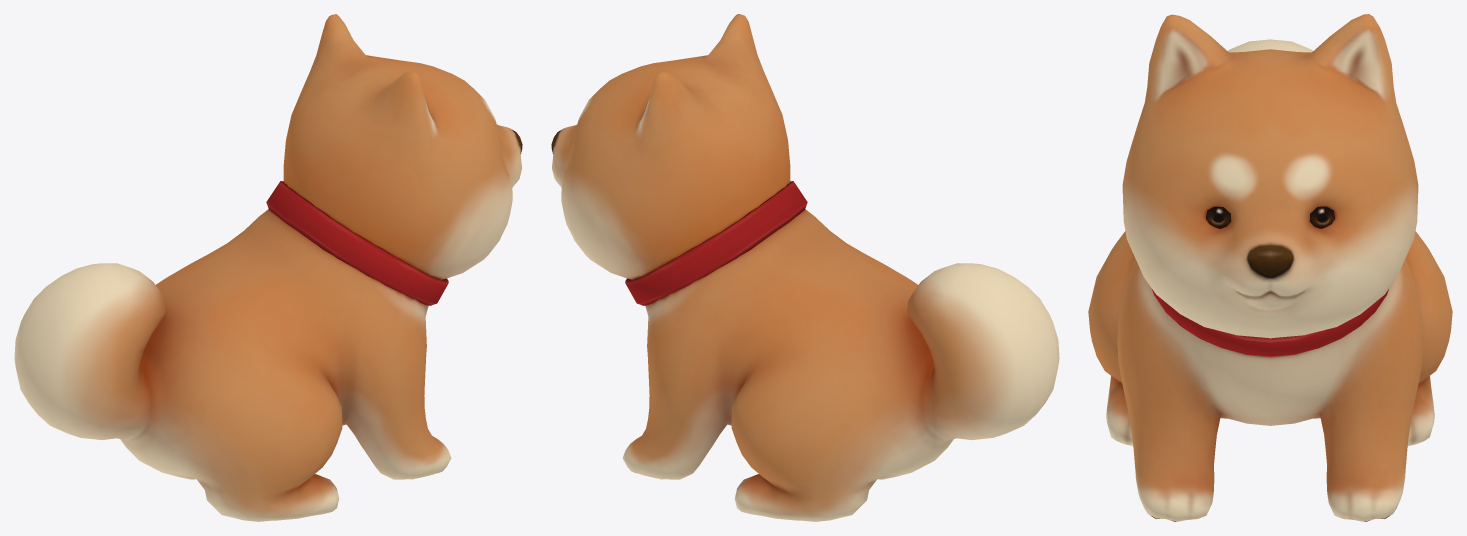
Rendered from shiba.glb.
3 views of the same model, side by side, from view 1: azimuth 30°, elevation 25°; view 2: azimuth 150°, elevation 25°; view 3: azimuth 270°, elevation 25° (orthographic). The views are drawn at different scales.
Parts seen in each view (by area): view 1: Body, Collar; view 2: Body, Collar; view 3: Body, Collar, Eyes.
Boxes of the visible parts, <box> form: Body: <box>14,14,522,521</box>; Collar: <box>266,181,448,305</box>; Body: <box>551,14,1059,521</box>; Collar: <box>625,181,807,305</box>; Body: <box>1088,14,1452,521</box>; Collar: <box>1152,289,1388,356</box>; Eyes: <box>1206,206,1334,228</box>.
Size of the model in its own units: 1.77 by 1.38 by 0.9209.
1 material, 1 textured.
